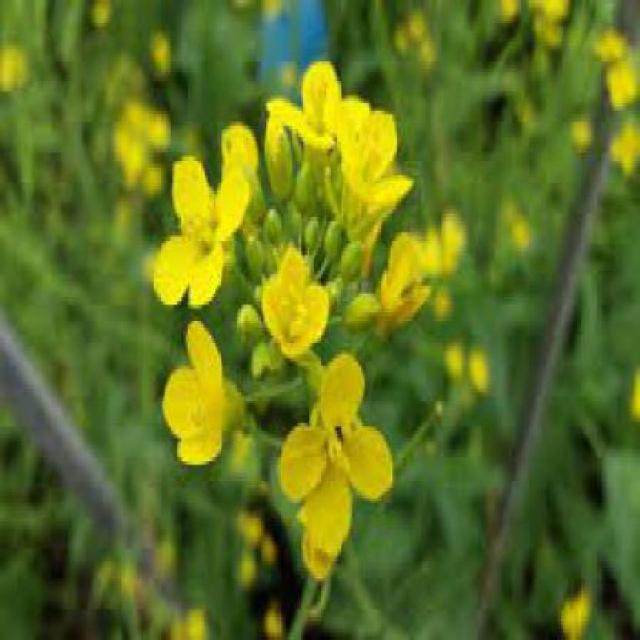Flower: (277, 351, 395, 583), (152, 150, 252, 313), (264, 57, 371, 157), (160, 316, 226, 469), (331, 98, 414, 214), (260, 241, 331, 365)
